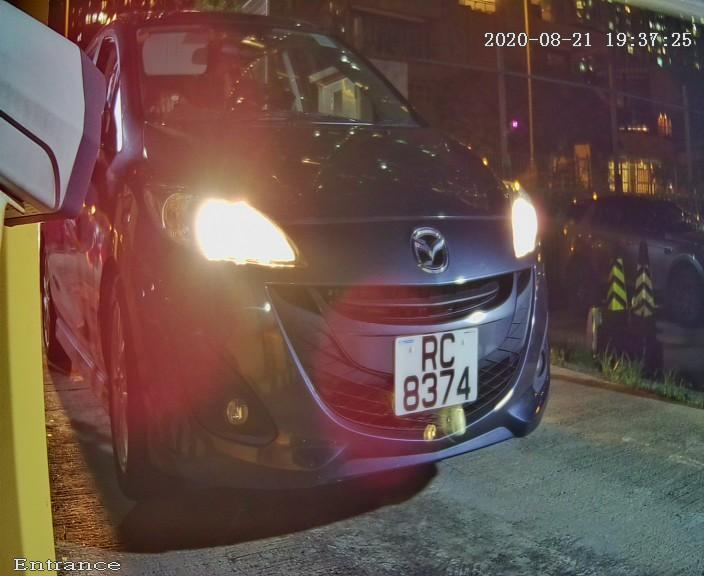Car: (23, 11, 598, 541)
License Plate: (384, 317, 481, 430)
